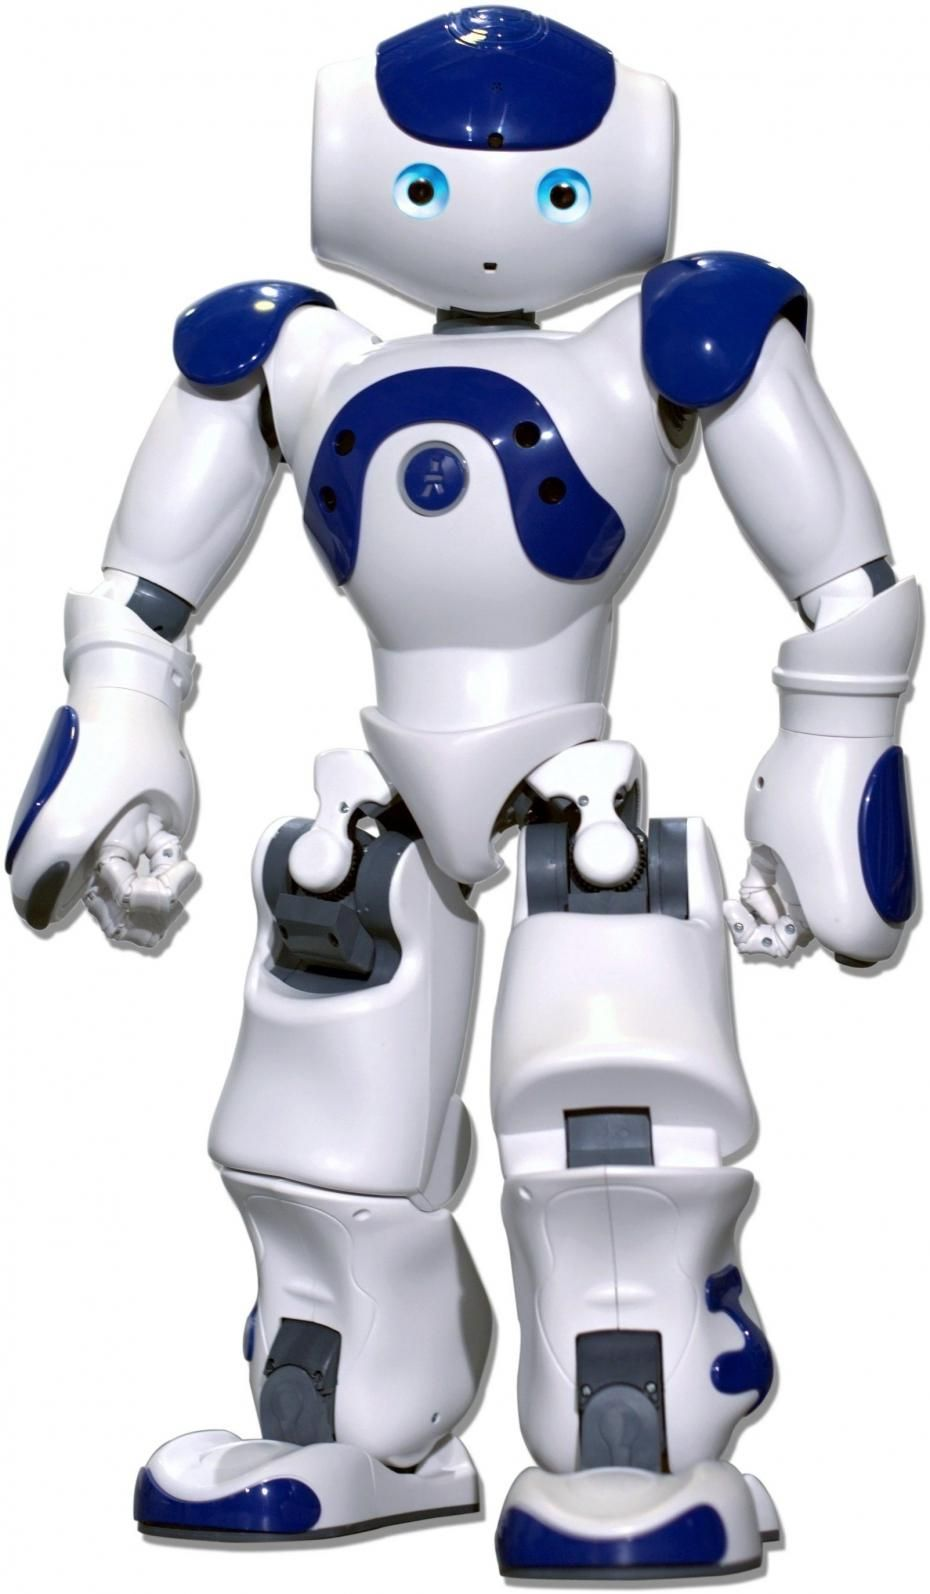nao: (10, 2, 930, 1588)
